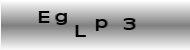3: (121, 17, 136, 30)
E: (37, 9, 50, 24)
L: (74, 24, 87, 38)
g: (54, 11, 67, 25)
p: (94, 18, 108, 32)
